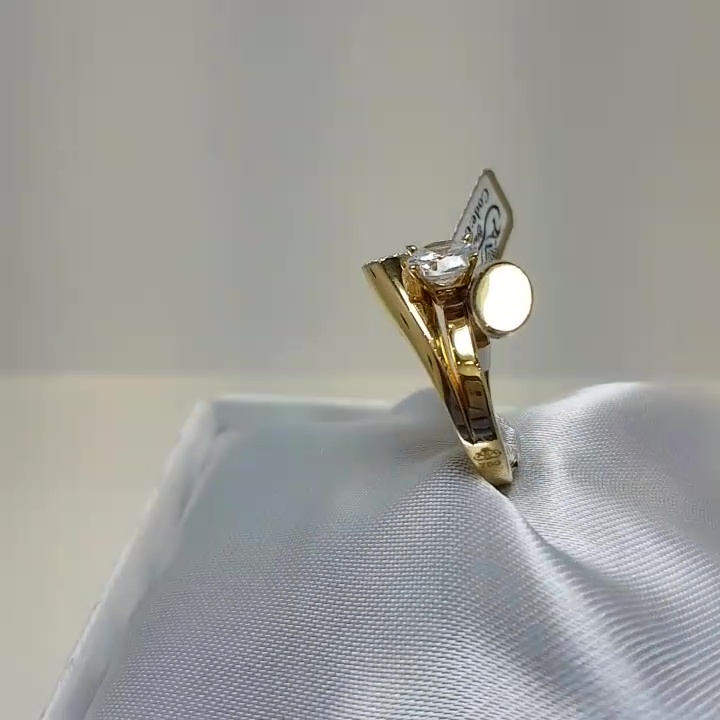Ring 7: (333, 240, 544, 493)
